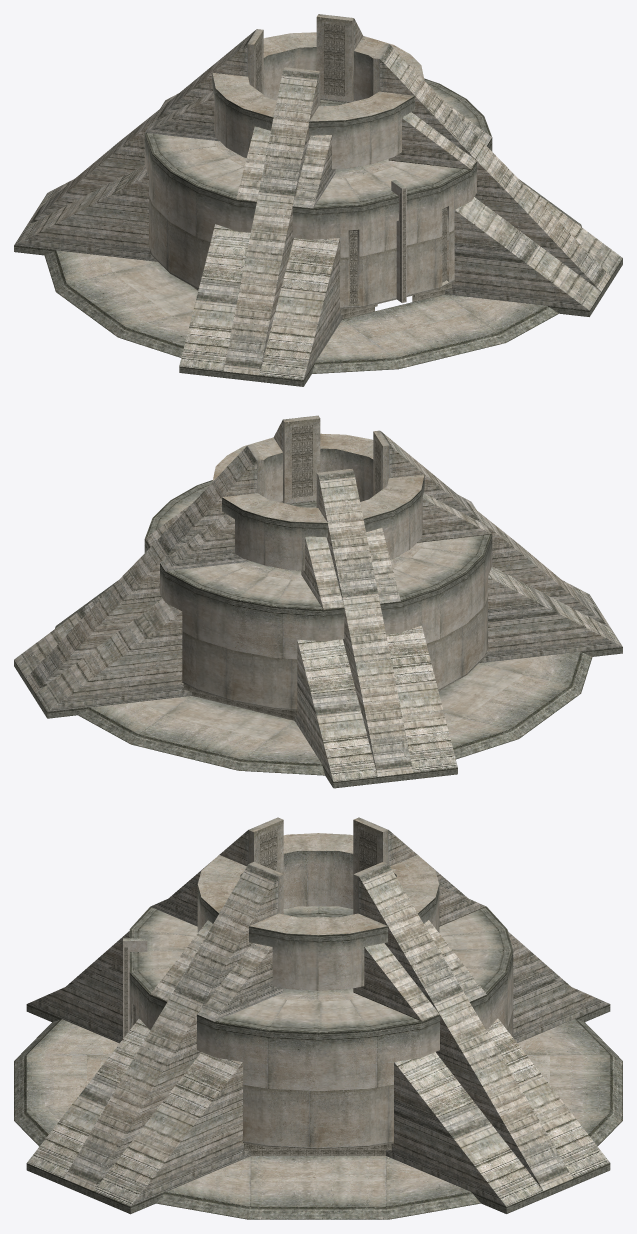
File: thm_yavn_temple_blueleaf_cluster_r0_mesh_r0_l1.fbx
3 renders of one model, top to bottom at view 1: azimuth 30°, elevation 25°; view 2: azimuth 150°, elevation 25°; view 3: azimuth 270°, elevation 25°, orthographic. The views are drawn at different scales.
Parts seen in each view (by area): view 1: mesh_node; view 2: mesh_node; view 3: mesh_node.
Boxes of the visible parts, box(x1,y1,x2,y2) form: mesh_node: box(14, 14, 622, 386); mesh_node: box(14, 415, 622, 788); mesh_node: box(14, 817, 622, 1219).
Bounding box in the file's own units: 149 × 66.06 × 149.
